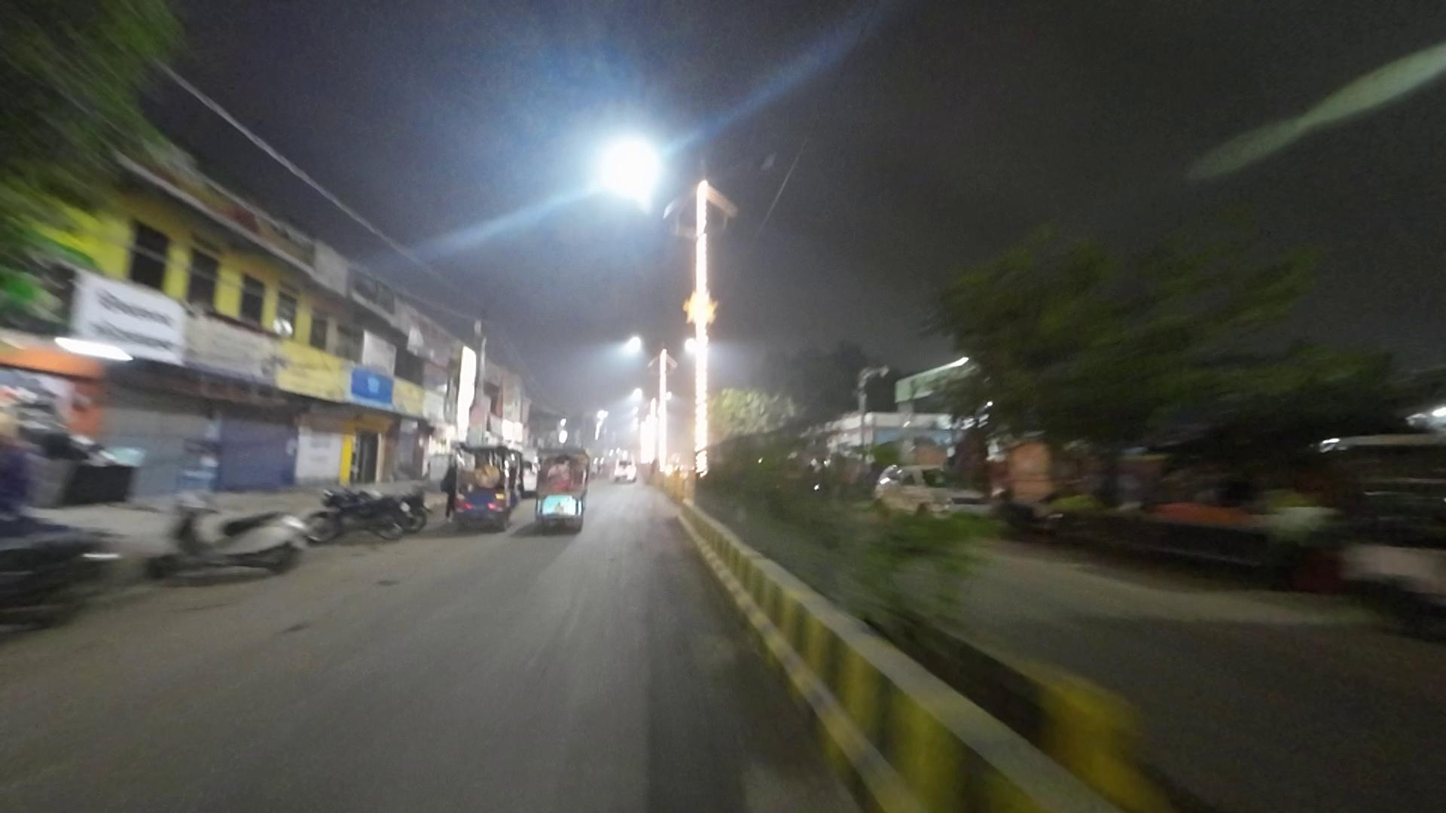streetlight: (716, 151, 780, 181)
